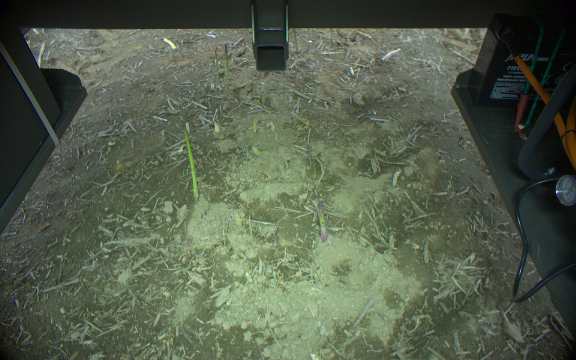aspa: (180, 124, 202, 206), (314, 200, 331, 243), (220, 44, 232, 94), (210, 46, 221, 91), (290, 27, 301, 57), (210, 109, 223, 133)
